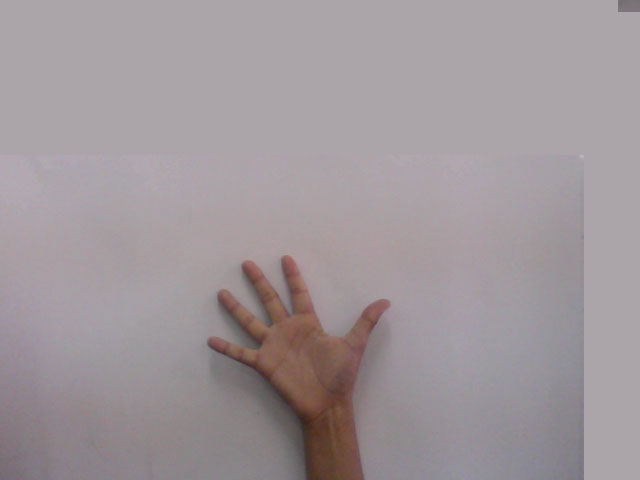hand: (197, 250, 401, 399)
